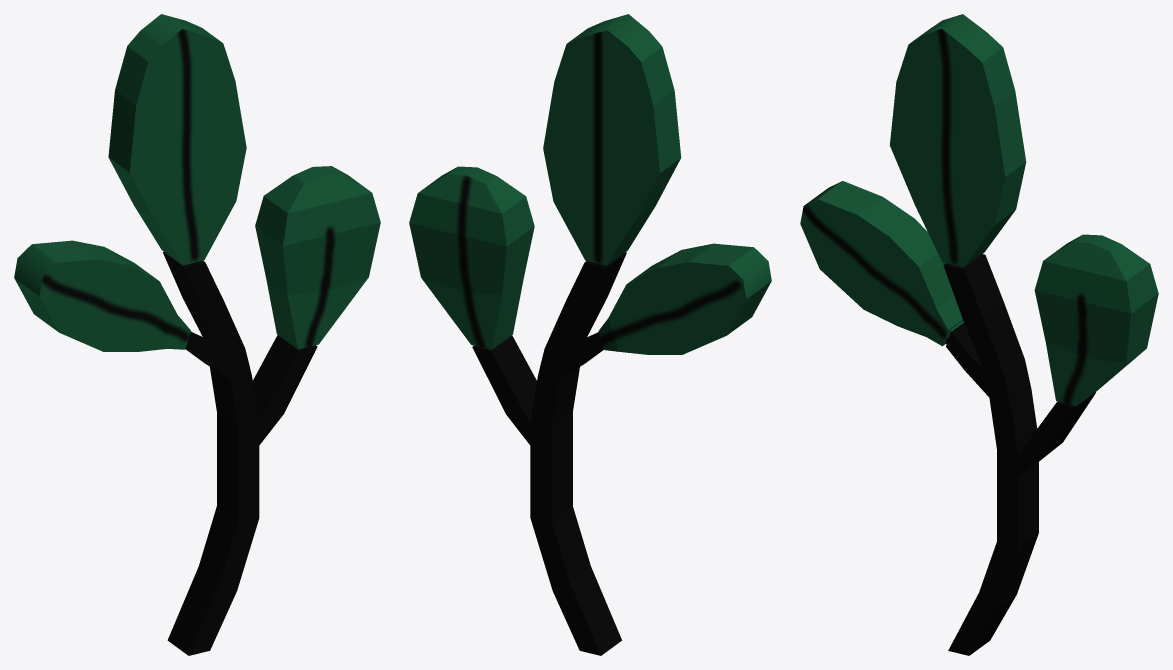
The model's file is Matita.fbx.
3 views of the same model, side by side, from view 1: azimuth 30°, elevation 25°; view 2: azimuth 150°, elevation 25°; view 3: azimuth 330°, elevation 25° (orthographic).
Visible parts, largest first — view 1: Mata_Benkos; view 2: Mata_Benkos; view 3: Mata_Benkos.
Part boxes in pixels (x1,y1,x2,y2): Mata_Benkos: [14, 14, 380, 655]; Mata_Benkos: [409, 14, 771, 655]; Mata_Benkos: [800, 14, 1158, 655].
Bounding box in the file's own units: 1.59 × 2.81 × 0.2308.
